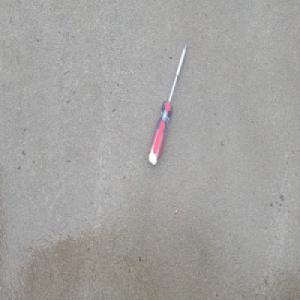Screwdriver: (148, 41, 187, 167)
